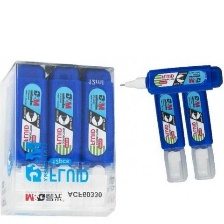correction_fluid: (79, 65, 115, 210), (13, 62, 48, 208), (47, 62, 79, 209), (117, 60, 224, 96), (179, 79, 216, 181), (152, 83, 188, 185)
plastic_box: (0, 57, 119, 220)
